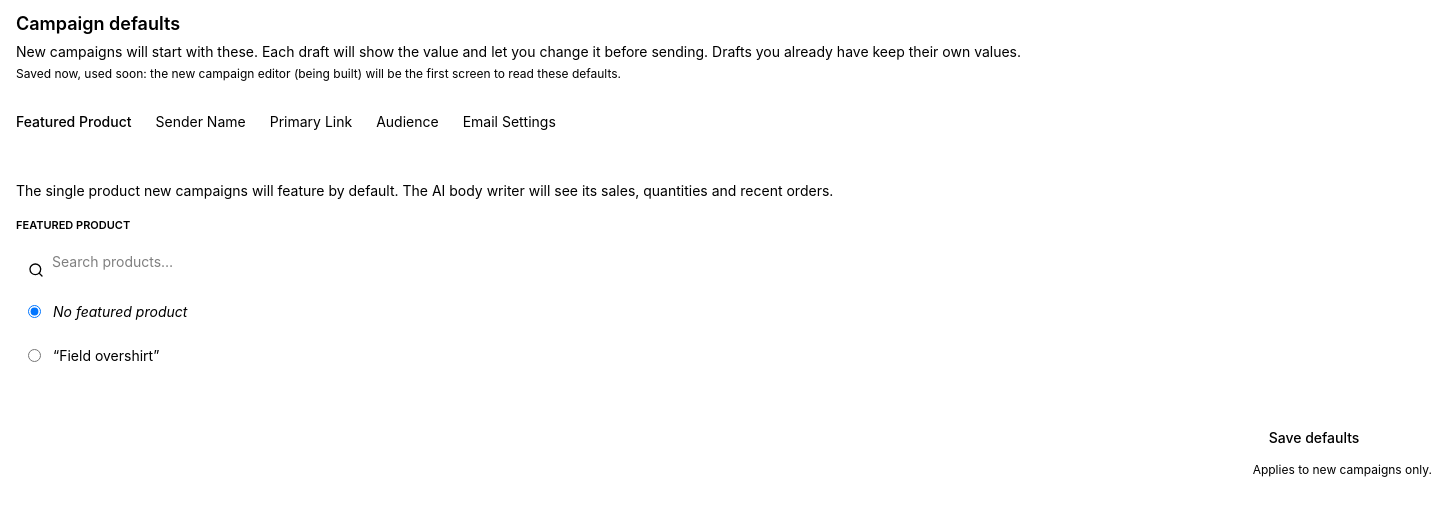
Test case: DefaultsForm › opens the tab of a refused field, marks it and puts focus on it
This screenshot has width=1444, height=527.
Click the tab "Email Settings". click: (509, 122)
box: [463,102,556,142]
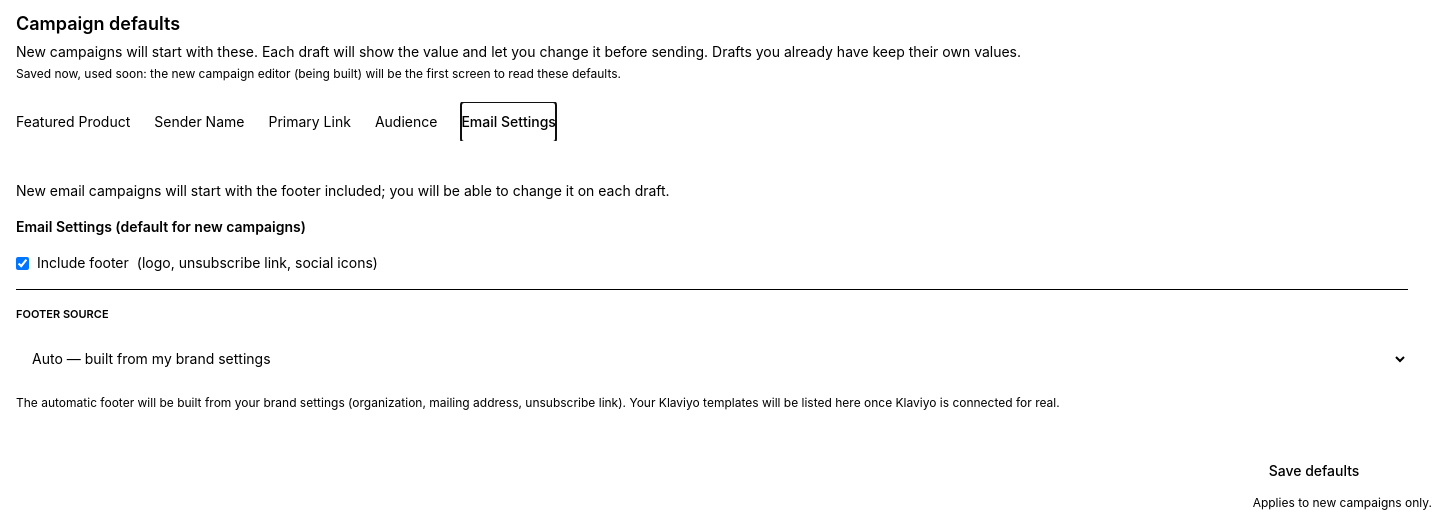
Click the button "Save defaults". click: (1314, 470)
box: [1253,450,1375,490]
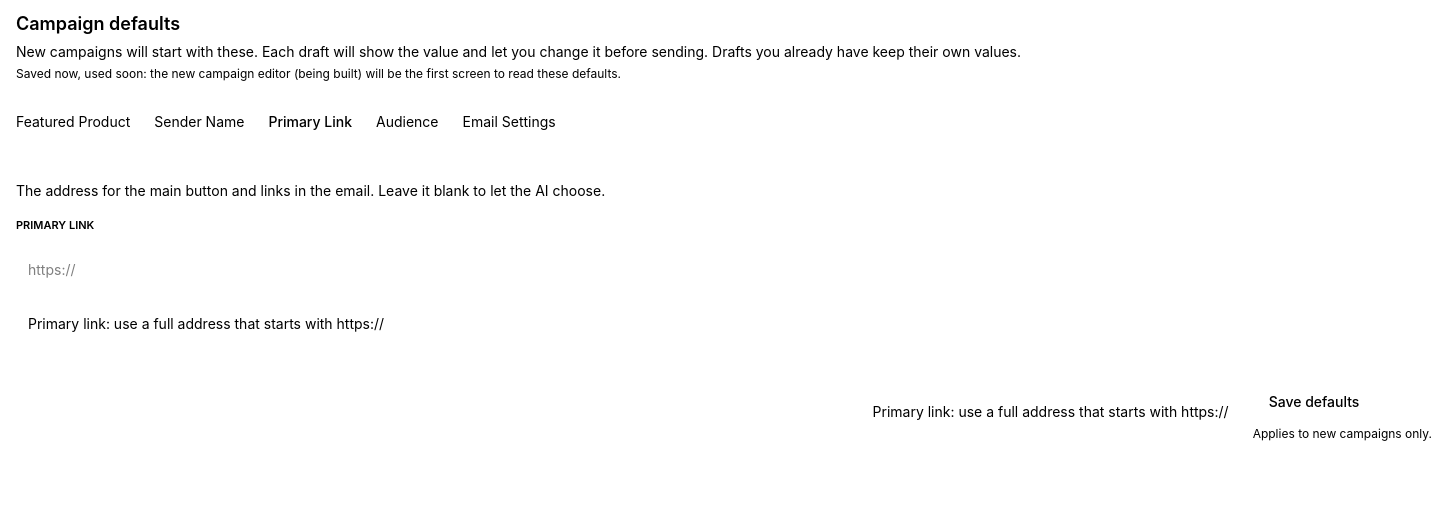
Expected: the field labelled "Primary link" is shown, [16,250,1408,290]
